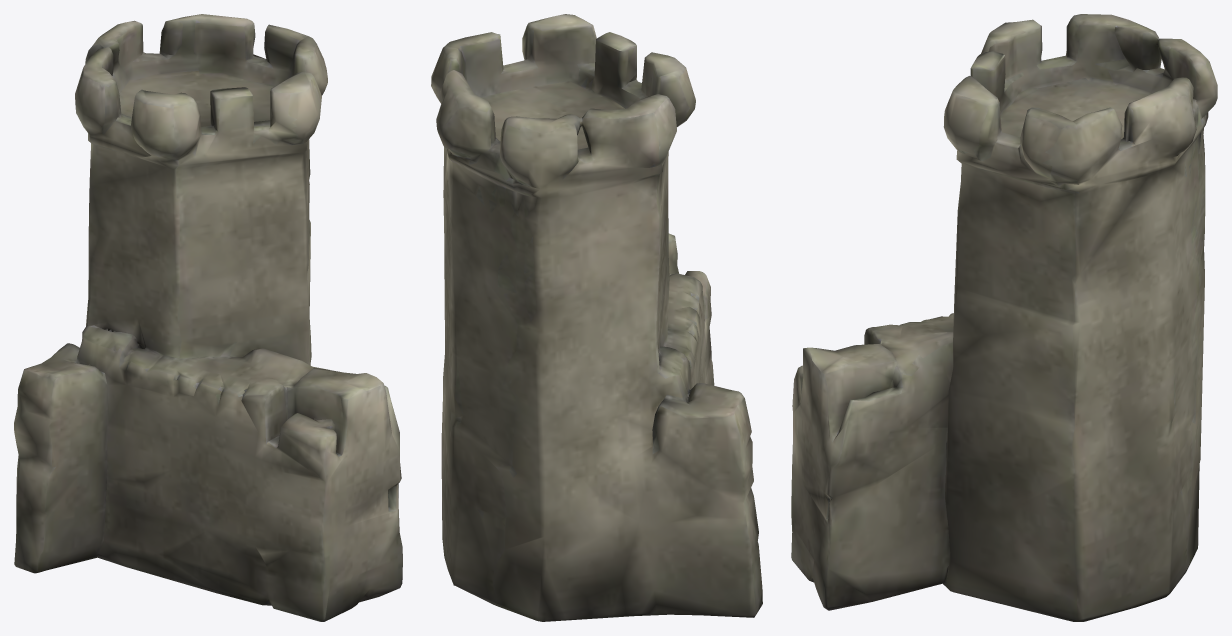
File: rustic-limestone-battlement-wall-v002.glb
3 renders of one model, left to right at view 1: azimuth 30°, elevation 25°; view 2: azimuth 150°, elevation 25°; view 3: azimuth 270°, elevation 25°, orthographic. The views are drawn at different scales.
Visible parts, largest first — view 1: rustic-limestone-battlement-wall; view 2: rustic-limestone-battlement-wall; view 3: rustic-limestone-battlement-wall.
Part boxes in pixels (<box>): rustic-limestone-battlement-wall: <box>14,14,402,621</box>; rustic-limestone-battlement-wall: <box>431,14,762,621</box>; rustic-limestone-battlement-wall: <box>791,14,1217,621</box>.
Bounding box in the file's own units: 1.62 × 2.39 × 1.83.
1 material, 1 textured.
